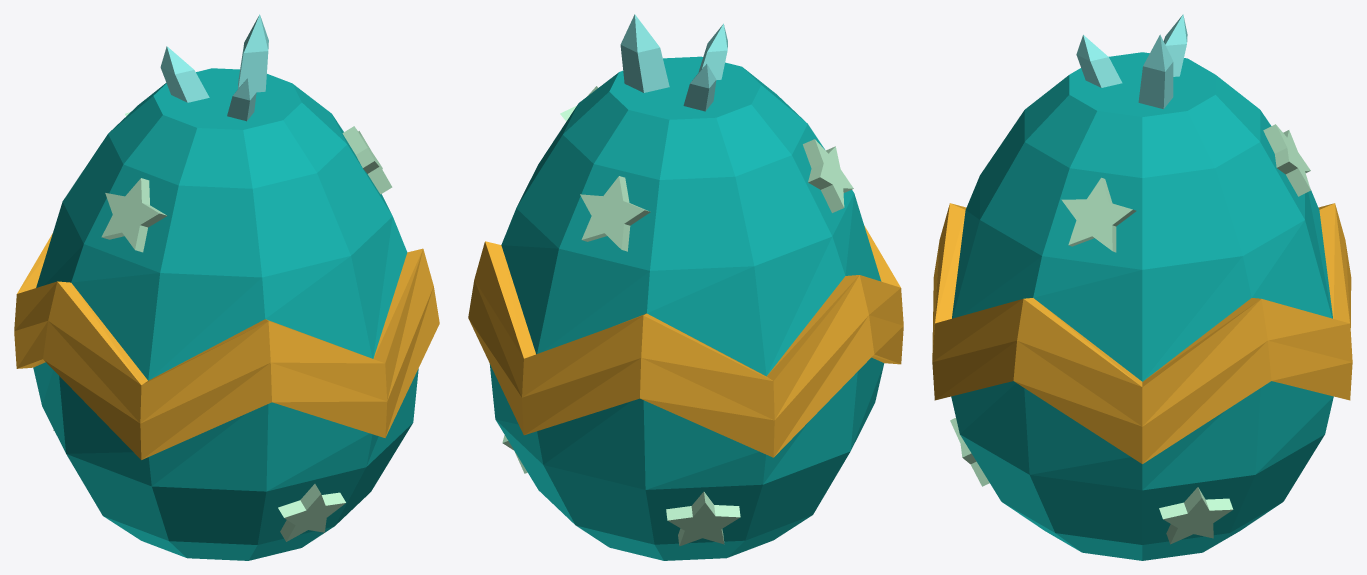
The model's file is crystal-egg.glb.
3 renders of one model, left to right at view 1: azimuth 30°, elevation 25°; view 2: azimuth 150°, elevation 25°; view 3: azimuth 270°, elevation 25°, orthographic. The views are drawn at different scales.
Visible parts, largest first — view 1: Shell, Band, Stars, Glow; view 2: Shell, Band, Stars, Glow; view 3: Shell, Band, Stars, Glow.
Boxes of the visible parts, bbox=[...] form: Shell: bbox=[33, 68, 418, 560]; Band: bbox=[14, 233, 439, 459]; Stars: bbox=[53, 112, 392, 541]; Glow: bbox=[160, 14, 268, 121]; Shell: bbox=[489, 56, 884, 560]; Band: bbox=[468, 225, 903, 457]; Stars: bbox=[502, 86, 853, 546]; Glow: bbox=[620, 14, 727, 111]; Shell: bbox=[951, 52, 1333, 560]; Band: bbox=[932, 203, 1352, 463]; Stars: bbox=[950, 124, 1310, 544]; Glow: bbox=[1076, 14, 1187, 109].
Size of the model in its own units: 3.06 by 4.06 by 2.92.
